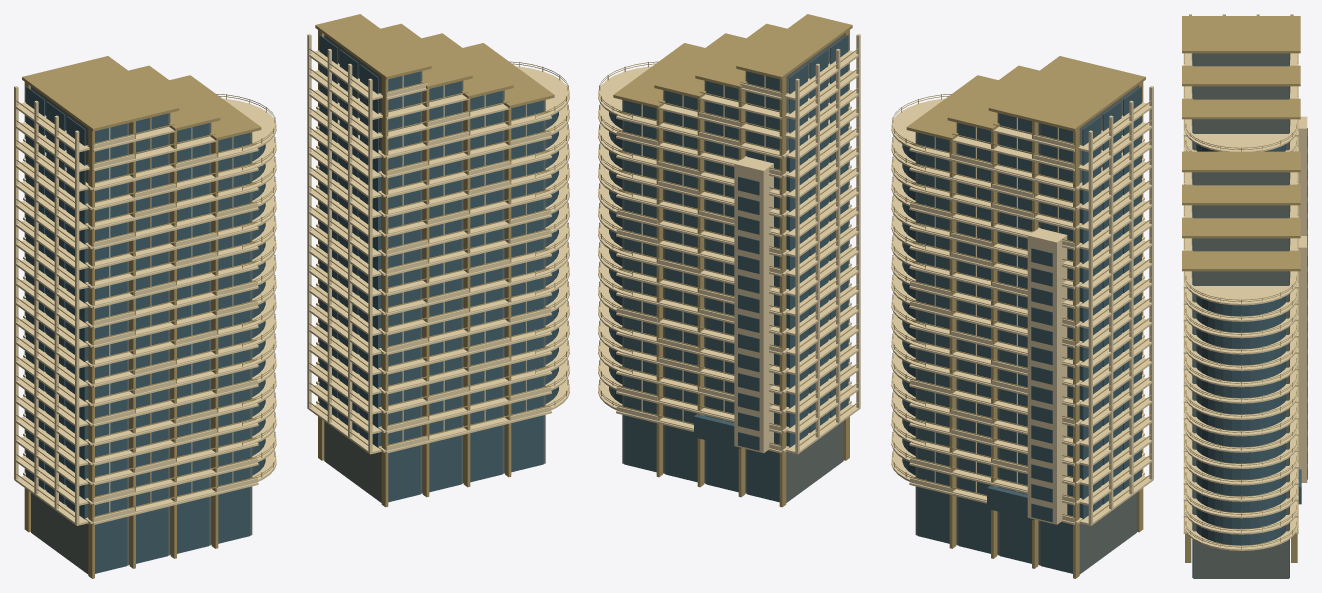
The model's file is fort-cambridge.glb.
The picture shows the model from 3 angles, left to right: view 1: azimuth 30°, elevation 25°; view 2: azimuth 150°, elevation 25°; view 3: azimuth 270°, elevation 25°; orthographic projection. The views are drawn at different scales.
Visible parts, largest first — view 1: Fort Cambridge paired towers; view 2: Fort Cambridge paired towers; view 3: Fort Cambridge paired towers.
Boxes of the visible parts, box(x1,y1,x2,y2) form: Fort Cambridge paired towers: box(14, 14, 569, 578); Fort Cambridge paired towers: box(598, 14, 1153, 578); Fort Cambridge paired towers: box(1182, 14, 1307, 578).
Size of the model in its own units: 87.92 by 73.57 by 22.32.
